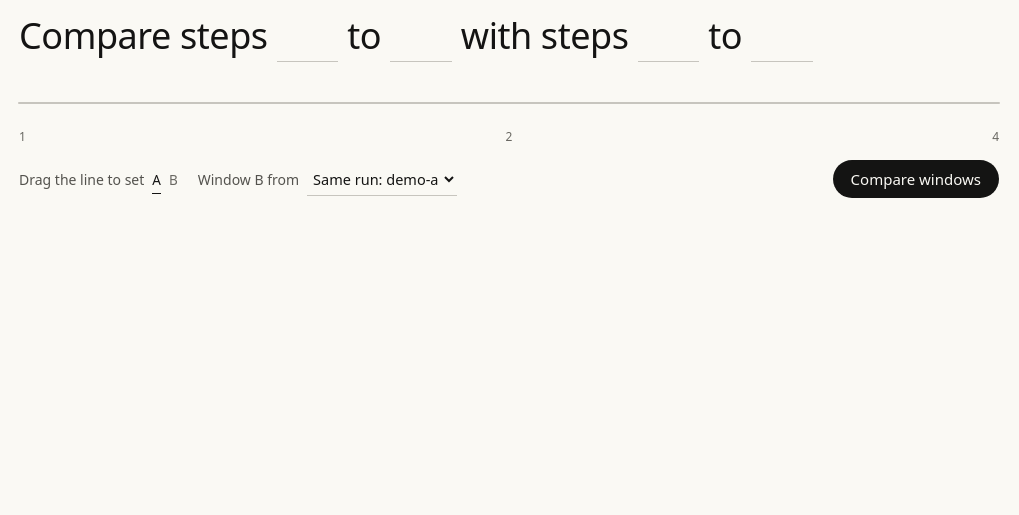
Scenario: submitting windows › sends the chosen comparison run
The image size is (1019, 515).
Select "demo-b" in the dropdown named "comparison run" at (382, 179), box left=307, top=162, right=457, bottom=196
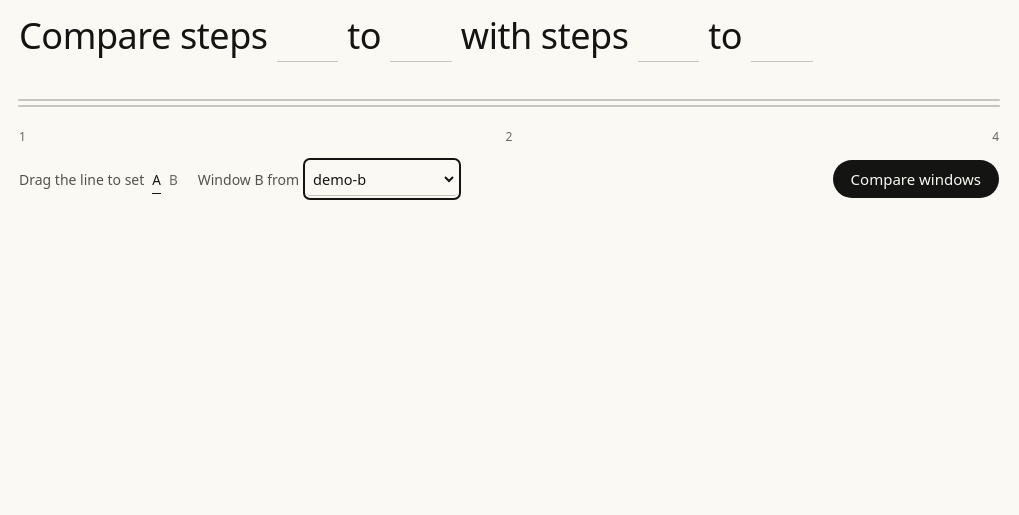
Type "1" into the field named "A start".
click(308, 37); type("1")  # box left=277, top=12, right=338, bottom=62
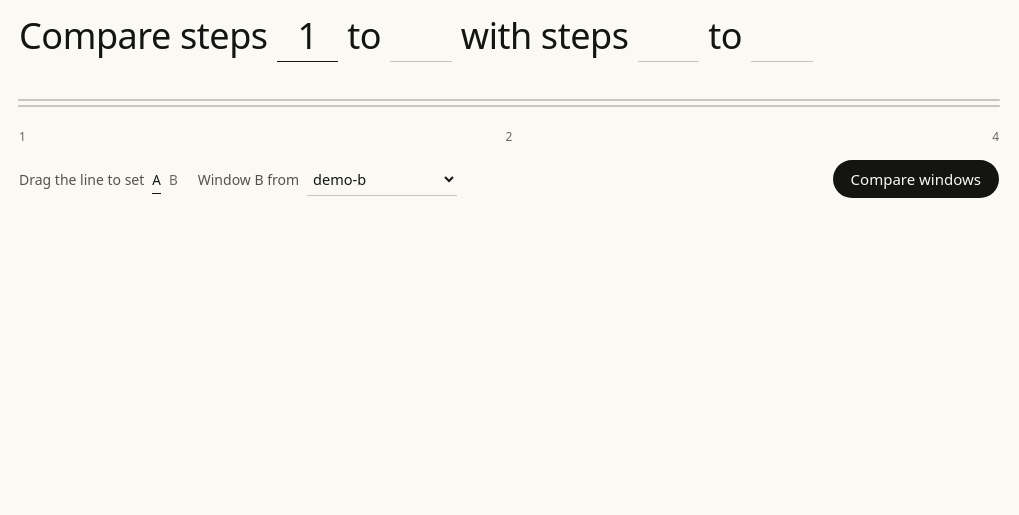
Type "2" into the field named "A end".
click(421, 37); type("2")  # box left=390, top=12, right=452, bottom=62
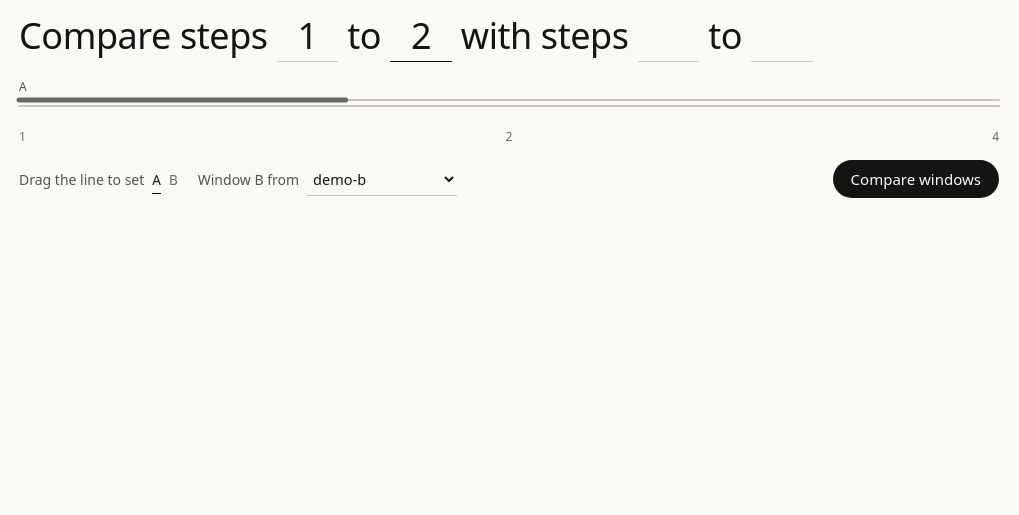
Type "3" into the field named "B start".
click(668, 37); type("3")  # box left=638, top=12, right=699, bottom=62
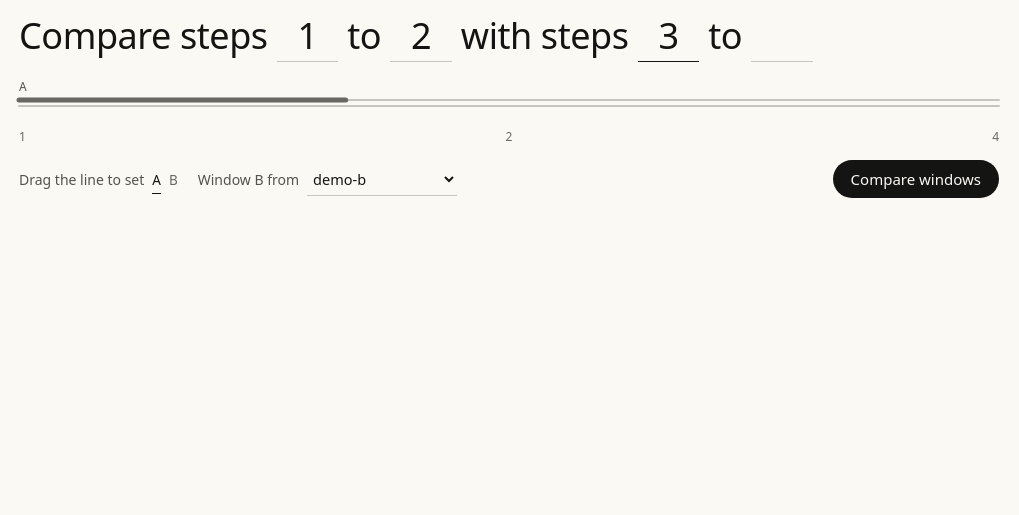
Type "5" into the field named "B end".
click(782, 37); type("5")  # box left=751, top=12, right=813, bottom=62
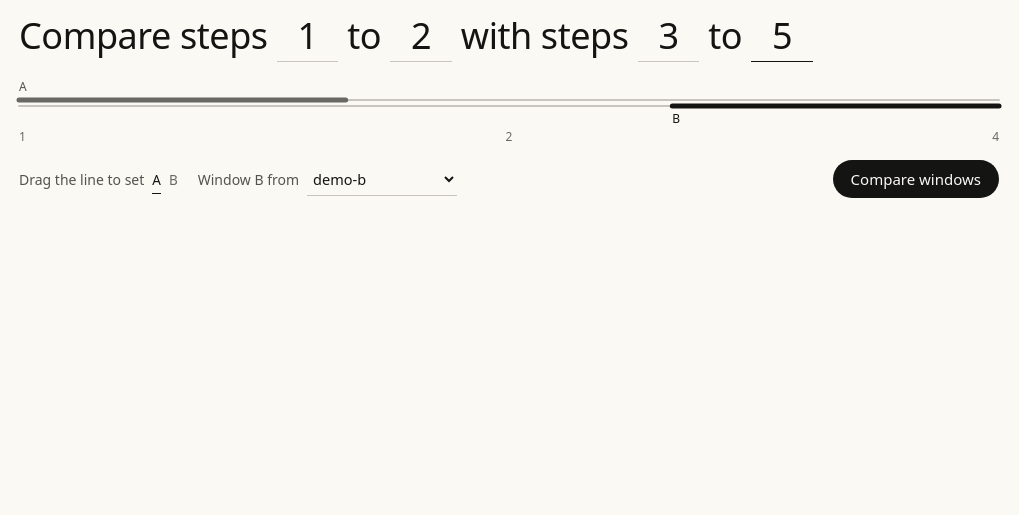
Click the button "Compare windows".
click(916, 179)  # box left=833, top=160, right=999, bottom=198
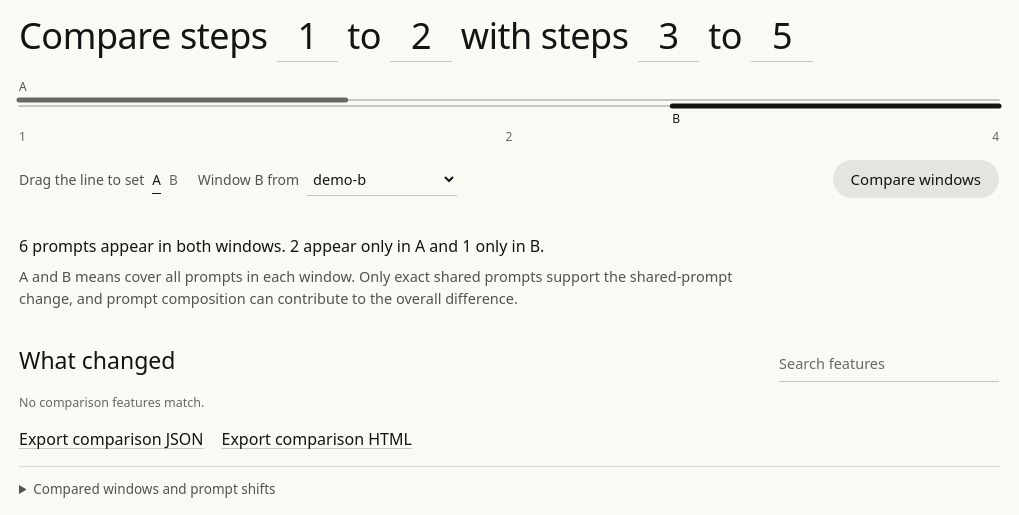
Expected: the heading "What changed" is shown, left=19, top=346, right=175, bottom=376
